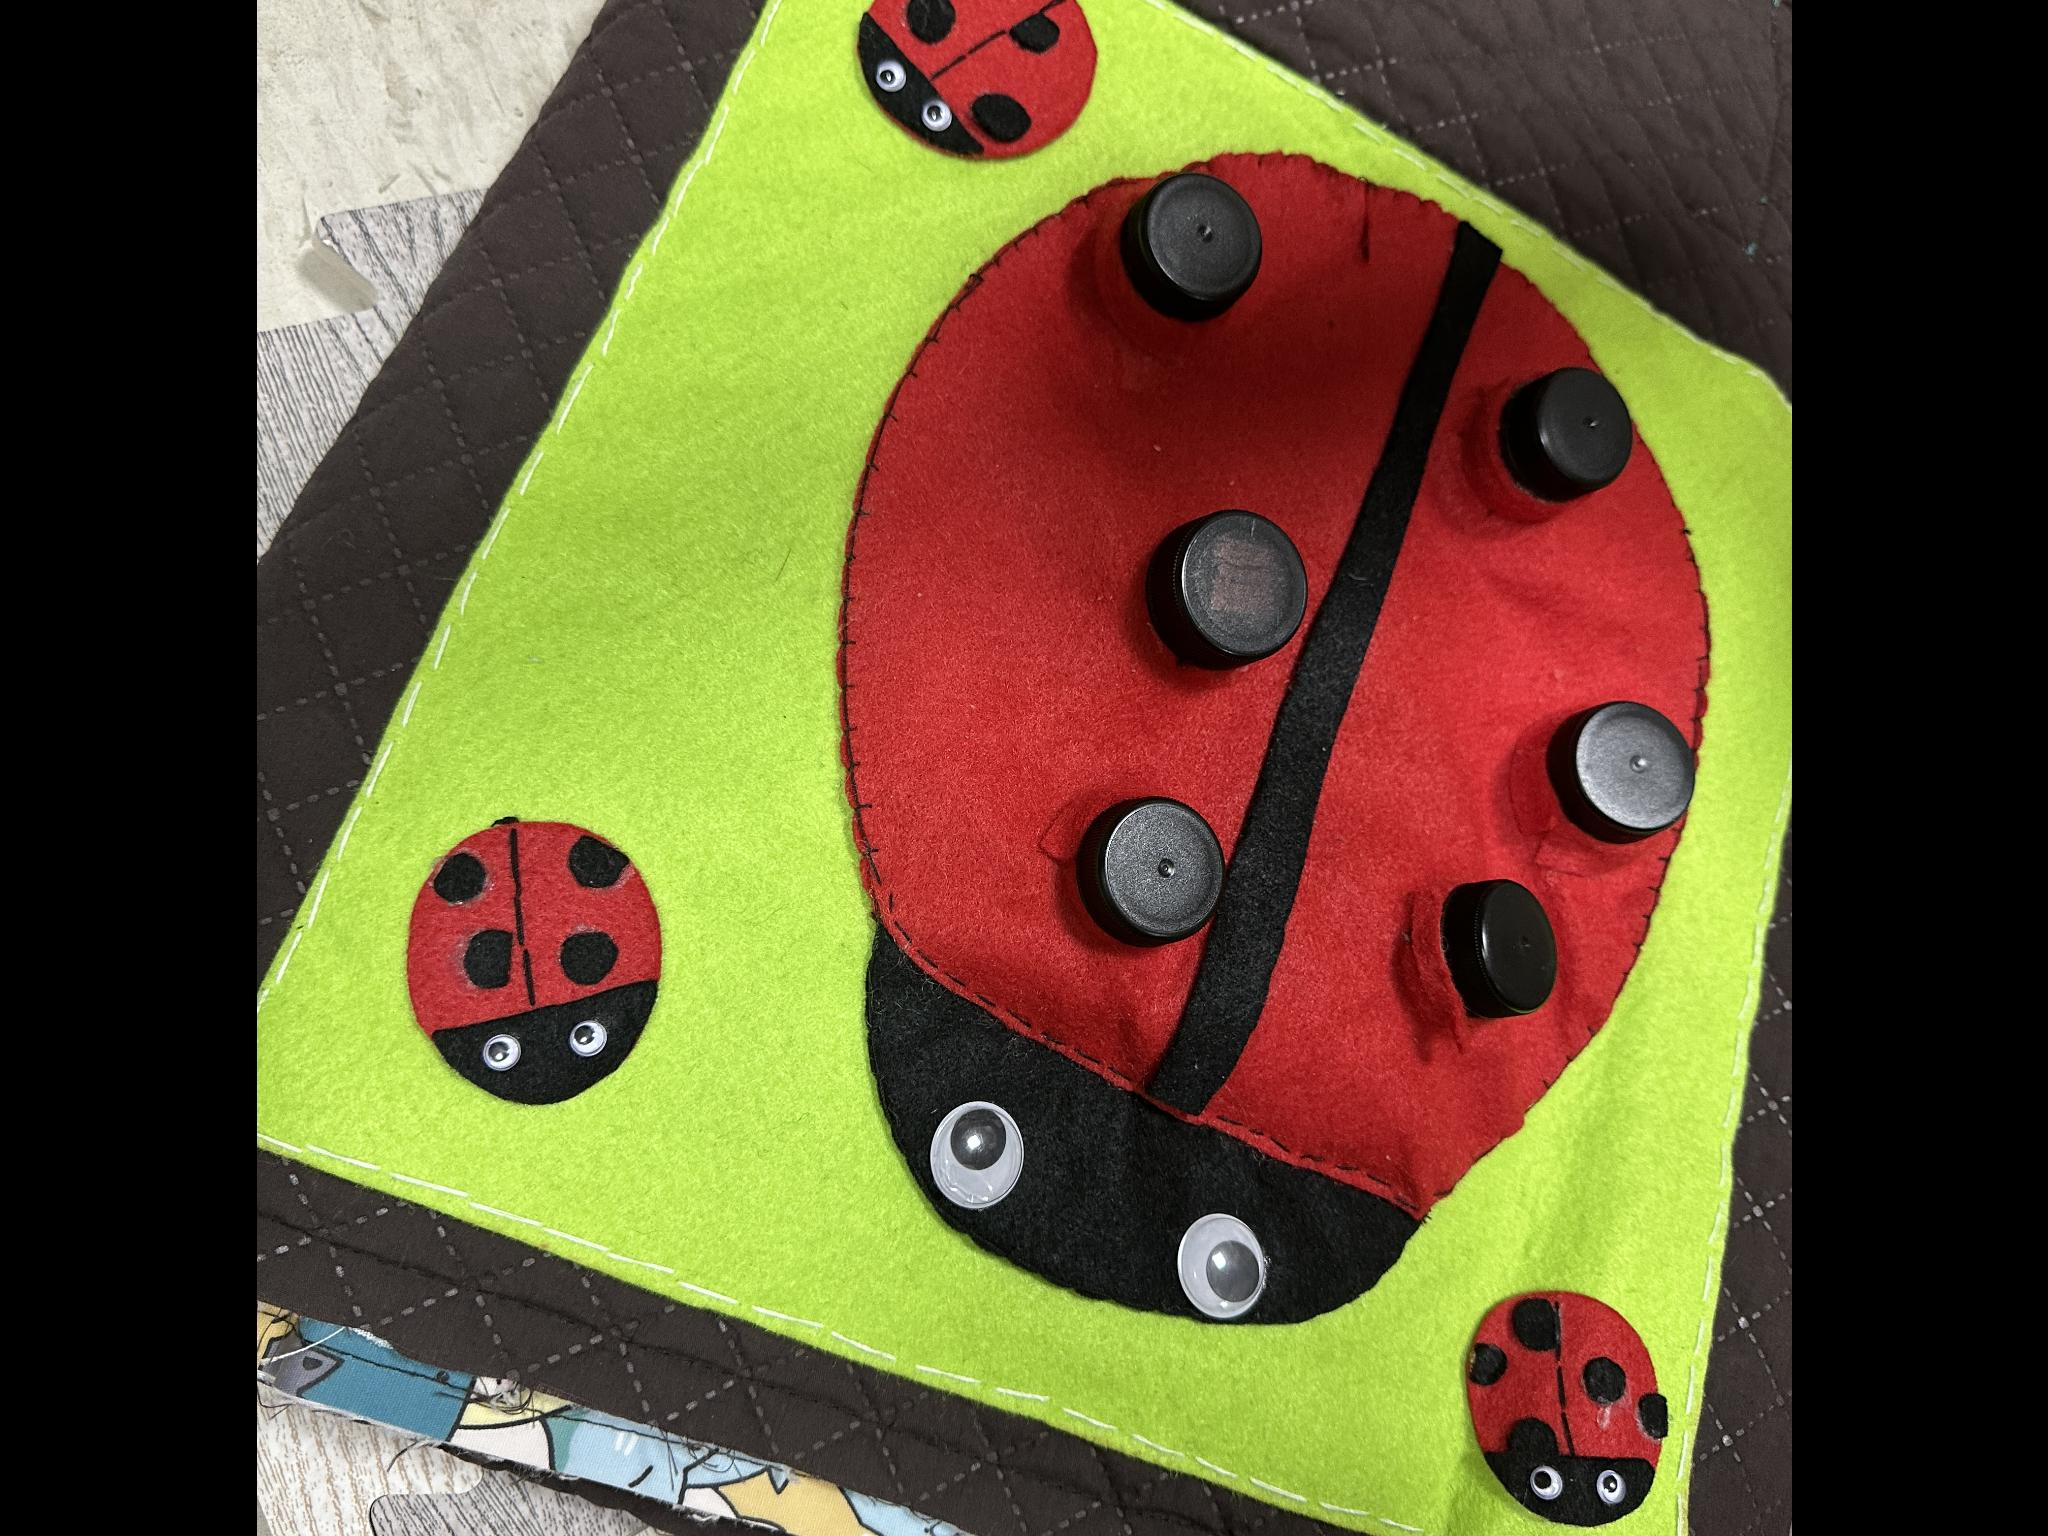cap_ok: (1048, 766, 1243, 962), (1077, 148, 1277, 339), (1121, 489, 1319, 671), (1535, 670, 1716, 865), (1392, 863, 1574, 1046), (1471, 352, 1645, 524)
